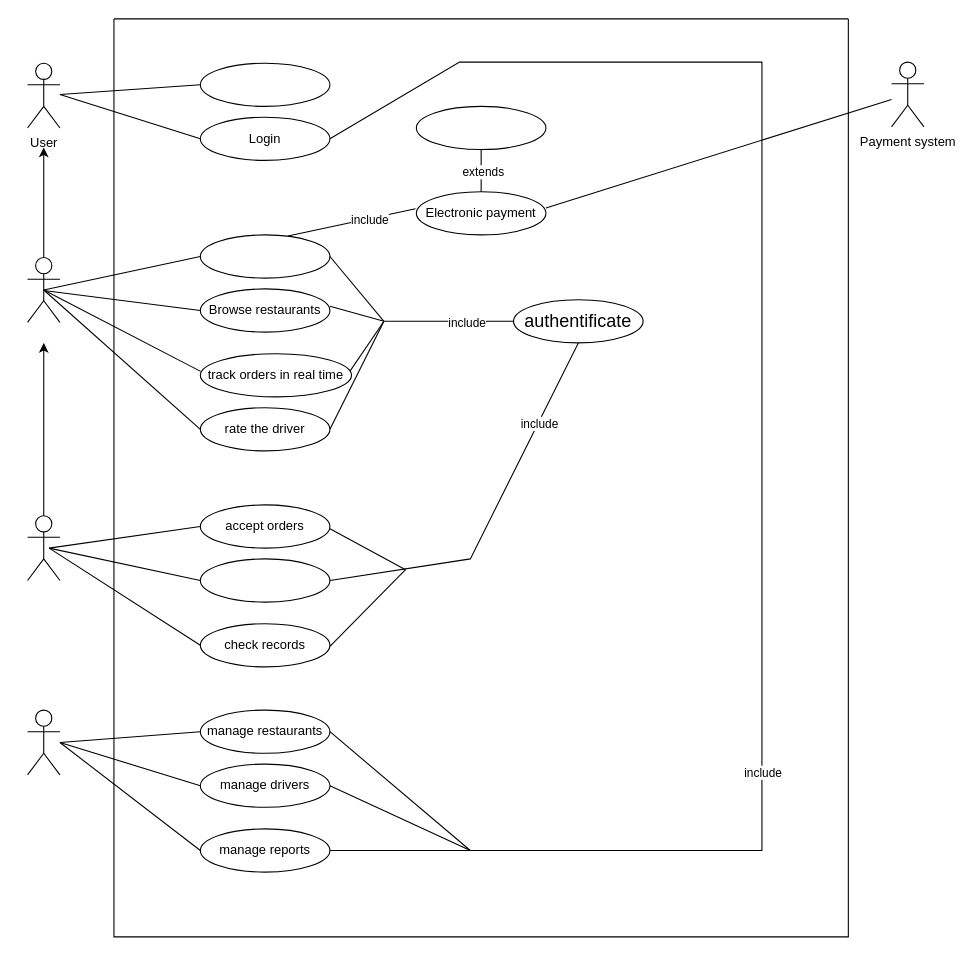
The diagram is 974 pixels wide and 956 high, and some of its shapes have lost their labels. Here are the shapes that lost their labels. From the top down, the centre of each, then its label:
(264,84): Register
(480,127): code promo
(264,256): make orders
(43,289): member
(43,547): delivery
(264,580): confirm deliveries
(43,742): Manager
